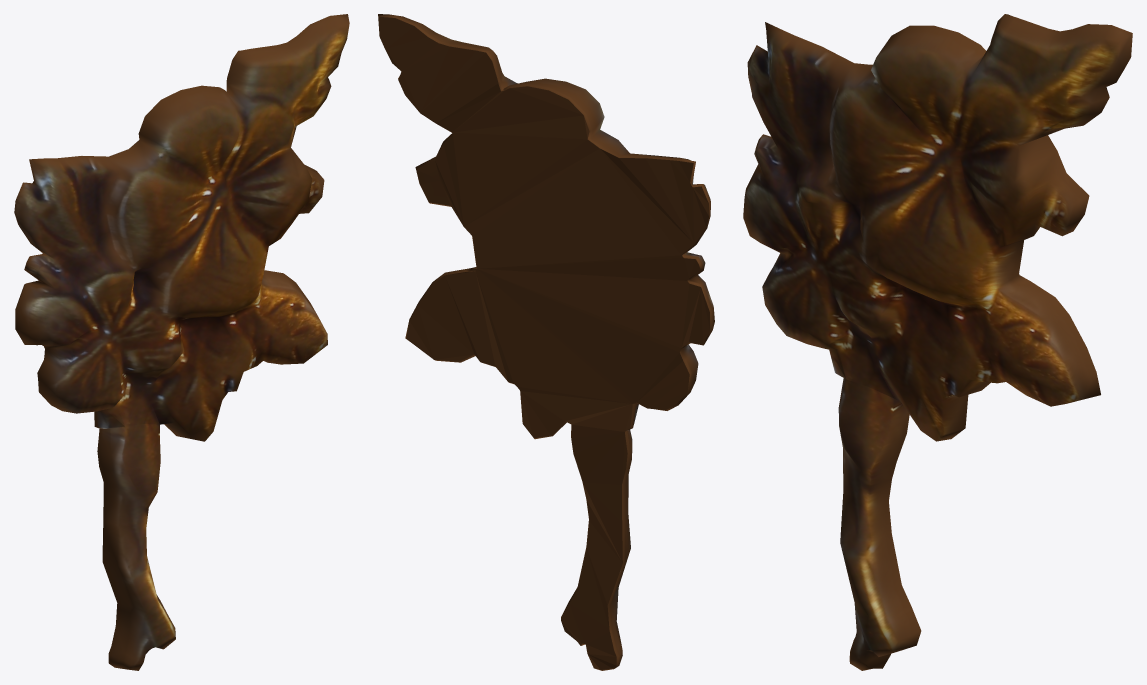
The model's file is Art2434.fbx.
The picture shows the model from 3 angles, left to right: view 1: azimuth 30°, elevation 25°; view 2: azimuth 150°, elevation 25°; view 3: azimuth 330°, elevation 25°; orthographic projection. The views are drawn at different scales.
Visible parts, largest first — view 1: Mesh_2; view 2: Mesh_2; view 3: Mesh_2.
Boxes of the visible parts, x1,y1,x2,y2 form: Mesh_2: [14, 14, 349, 670]; Mesh_2: [378, 14, 714, 670]; Mesh_2: [743, 14, 1132, 670].
Bounding box in the file's own units: 12.2 × 21.13 × 1.95.
1 material, 1 textured.
